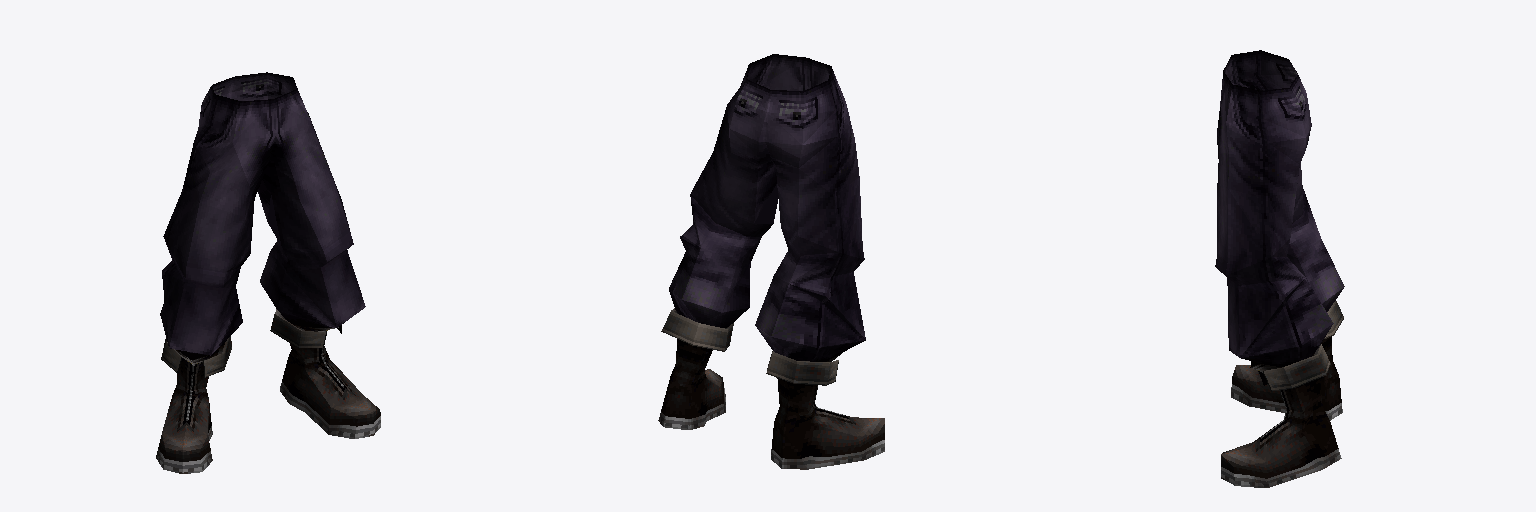
3 views of the same model, side by side, from view 1: azimuth 30°, elevation 25°; view 2: azimuth 150°, elevation 25°; view 3: azimuth 270°, elevation 25° (orthographic).
Visible parts, largest first — view 1: 0001_r_sym307, 0002_r_sym307; view 2: 0001_r_sym307, 0002_r_sym307; view 3: 0001_r_sym307, 0002_r_sym307.
Part boxes in pixels (left/top/right/bottom): 0001_r_sym307: left=156, top=72, right=380, bottom=473; 0002_r_sym307: left=161, top=314, right=326, bottom=377; 0001_r_sym307: left=658, top=54, right=884, bottom=469; 0002_r_sym307: left=661, top=311, right=838, bottom=385; 0001_r_sym307: left=1215, top=50, right=1344, bottom=487; 0002_r_sym307: left=1263, top=301, right=1343, bottom=391.
Size of the model in its own units: 0.3935 by 0.6517 by 0.2108.
2 materials, 2 textured.